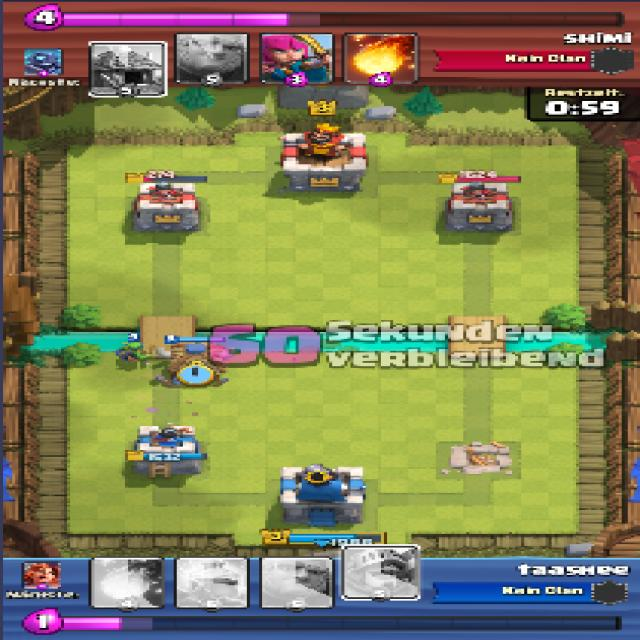Player-GoblinHut: (153, 343, 237, 387)
Player-SpearGoblin: (119, 341, 151, 363)
